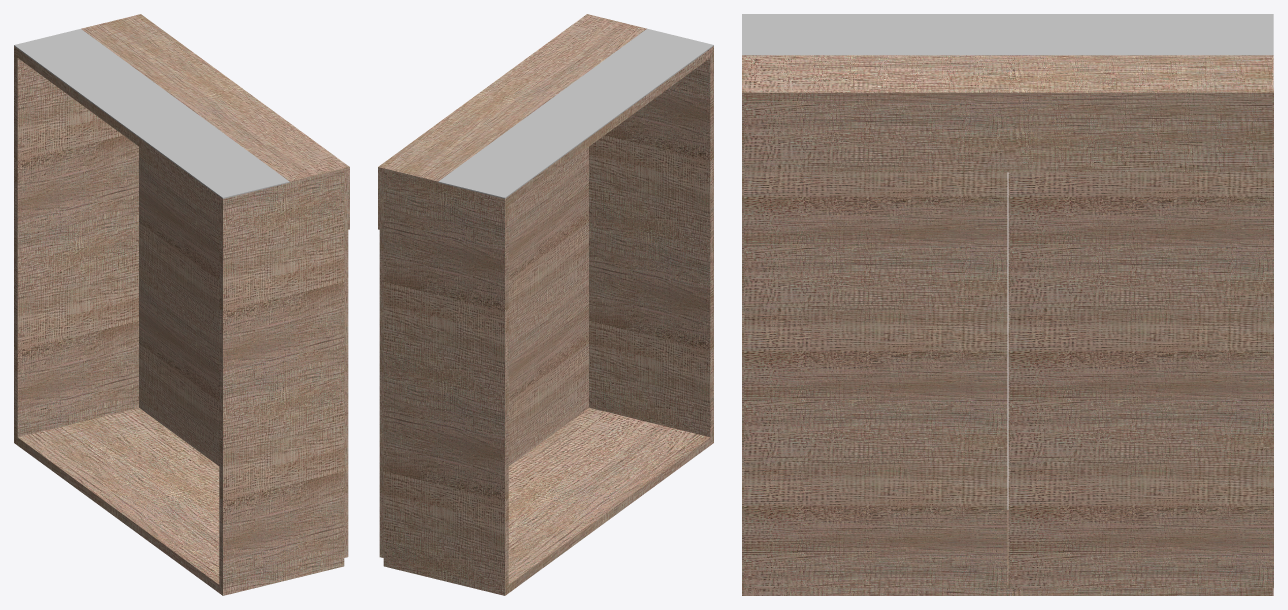
Rendered from carbinnnettt.fbx.
The picture shows the model from 3 angles, left to right: view 1: azimuth 30°, elevation 25°; view 2: azimuth 150°, elevation 25°; view 3: azimuth 270°, elevation 25°; orthographic projection. The views are drawn at different scales.
Visible parts, largest first — view 1: Box2131640264, Box2131640268, Box2131640272, Box2131640273, Box2131640267, Box2131640266; view 2: Box2131640264, Box2131640267, Box2131640272, Box2131640273, Box2131640268, Box2131640266; view 3: Box2131640267, Box2131640268, Box2131640266, Box2131640272, Box2131640273, Box2131640264.
Boxes of the visible parts, x1,y1,x2,y2 form: Box2131640264: (14, 46, 344, 595); Box2131640268: (139, 147, 219, 465); Box2131640272: (14, 29, 289, 198); Box2131640273: (81, 15, 344, 182); Box2131640267: (344, 230, 348, 557); Box2131640266: (136, 14, 349, 230); Box2131640264: (383, 46, 713, 595); Box2131640267: (508, 147, 588, 465); Box2131640272: (438, 28, 713, 198); Box2131640273: (383, 15, 646, 182); Box2131640268: (379, 230, 383, 557); Box2131640266: (378, 14, 591, 230); Box2131640267: (742, 172, 1007, 587); Box2131640268: (1008, 172, 1273, 587); Box2131640266: (742, 89, 1273, 172); Box2131640272: (742, 14, 1273, 55); Box2131640273: (742, 55, 1273, 89); Box2131640264: (742, 510, 1273, 595).
Size of the model in its own units: 256 by 767 by 730.
2 materials, 1 textured.
